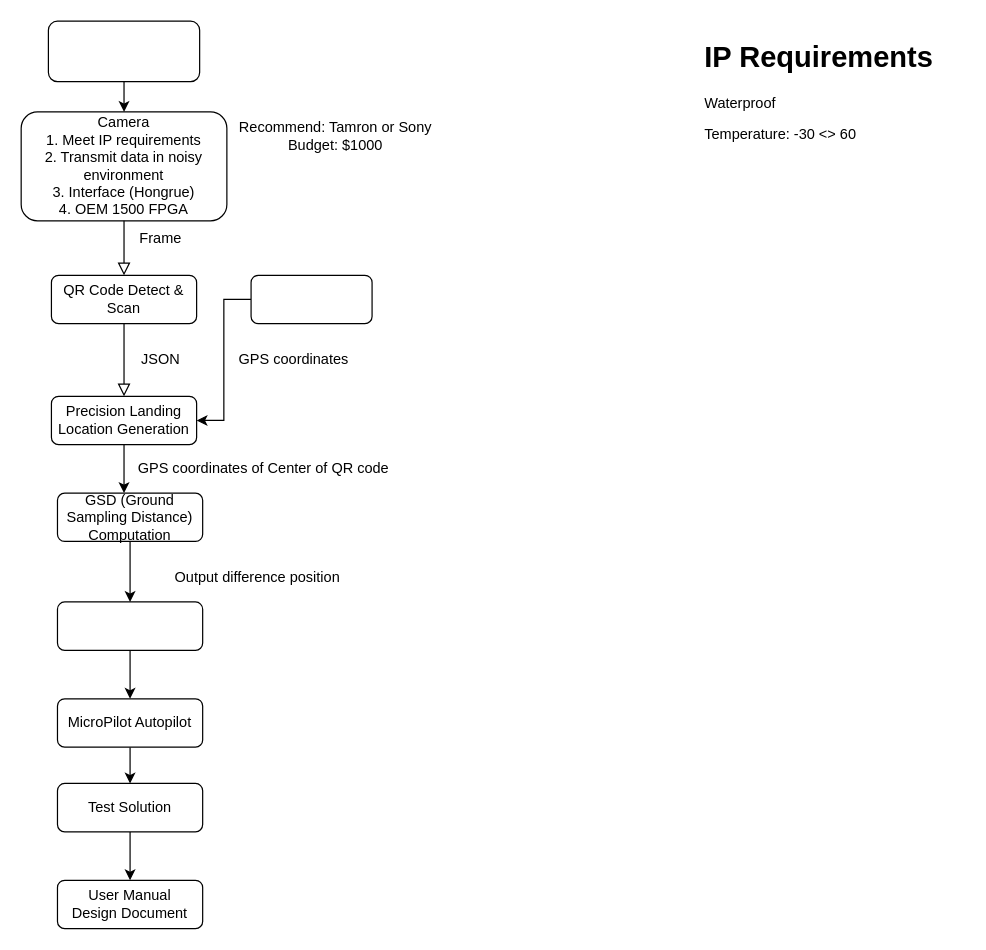
Some shapes in this 986 by 950 pixel diagram are drawn without their labels. Each missing label, with the centre of its shape:
"Autopilot Precision Landing Control" belongs at point 129,625.
"GPS Module" belongs at point 311,299.
"QR Code: White foam and black tape" belongs at point 123,51.
